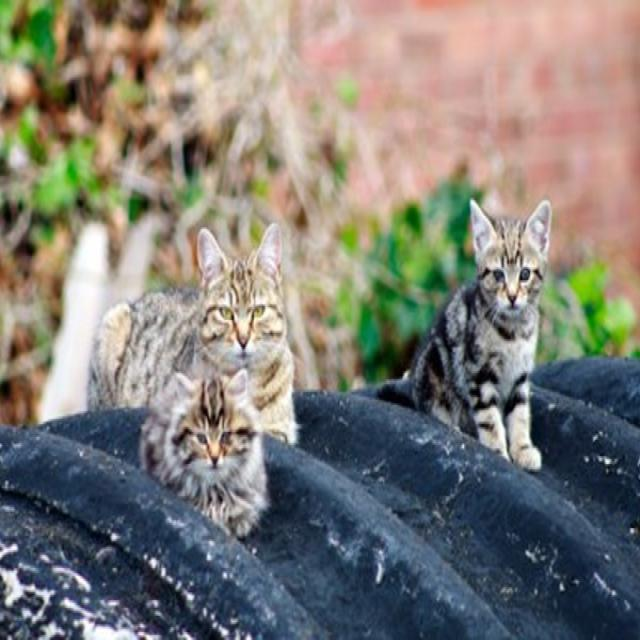cat: (89, 223, 298, 443), (412, 201, 551, 470), (142, 369, 268, 537)
